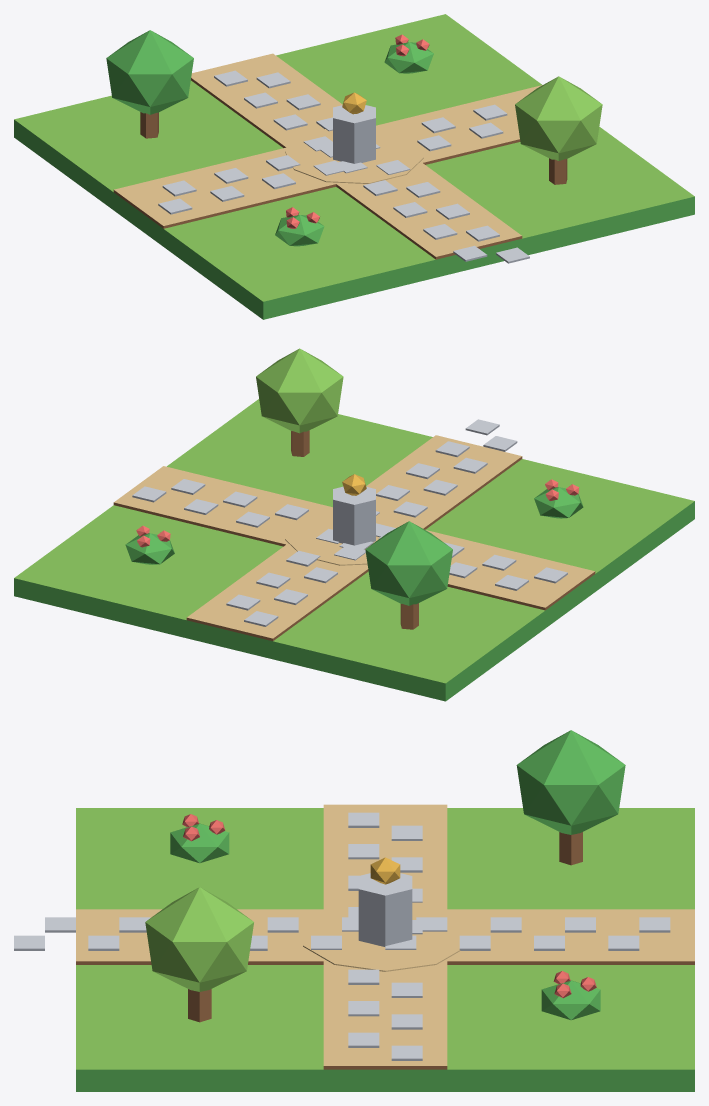
The model's file is path_cross.glb.
The picture shows the model from 3 angles, top to bottom: view 1: azimuth 30°, elevation 25°; view 2: azimuth 150°, elevation 25°; view 3: azimuth 270°, elevation 25°; orthographic projection. The views are drawn at different scales.
Visible parts, largest first — view 1: path_cross; view 2: path_cross; view 3: path_cross.
Boxes of the visible parts, bbox=[...] form: path_cross: bbox=[14, 14, 694, 319]; path_cross: bbox=[14, 348, 694, 701]; path_cross: bbox=[14, 730, 694, 1091].
Size of the model in its own units: 1 by 0.272 by 1.1.
